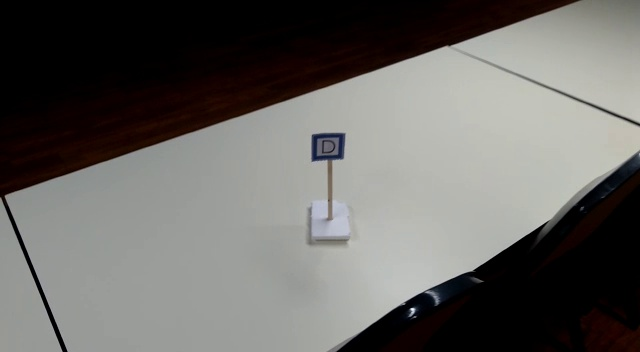durak: (312, 133, 345, 161)
